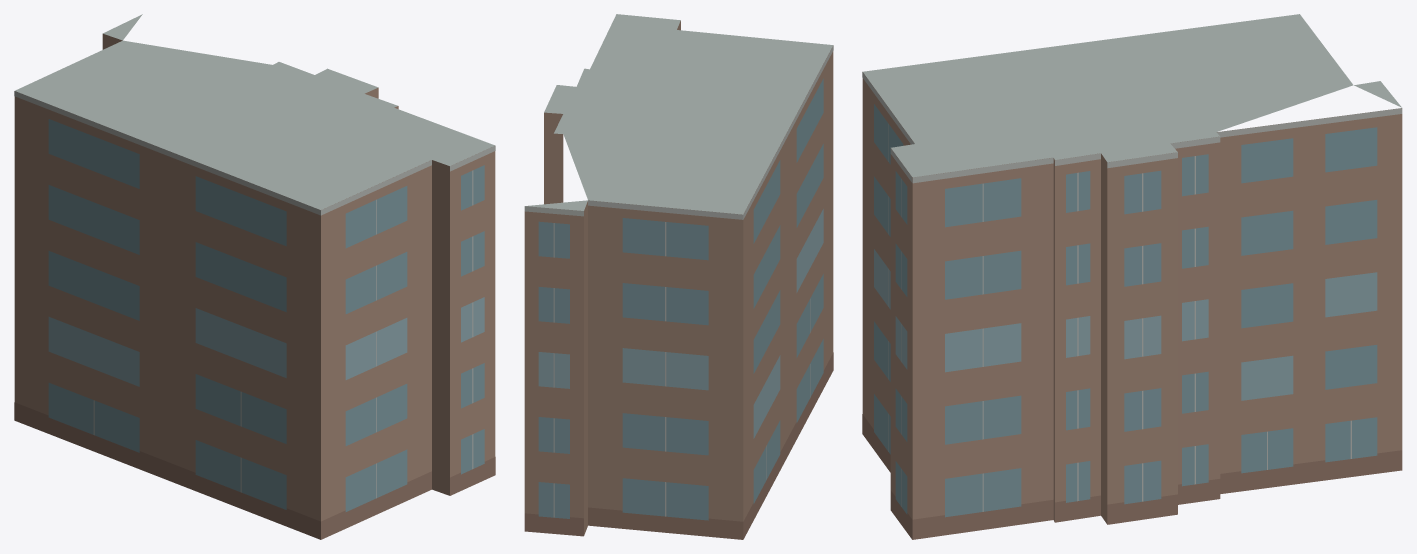
File: survey-upis-32866100.glb
3 renders of one model, left to right at view 1: azimuth 30°, elevation 25°; view 2: azimuth 150°, elevation 25°; view 3: azimuth 270°, elevation 25°, orthographic. The views are drawn at different scales.
Visible parts, largest first — view 1: survey-upis-32866100.tmp; view 2: survey-upis-32866100.tmp; view 3: survey-upis-32866100.tmp.
Boxes of the visible parts, x1,y1,x2,y2 form: survey-upis-32866100.tmp: (14,14,495,539); survey-upis-32866100.tmp: (524,14,833,539); survey-upis-32866100.tmp: (862,14,1402,539).
Size of the model in its own units: 14.42 by 14.9 by 20.12.
